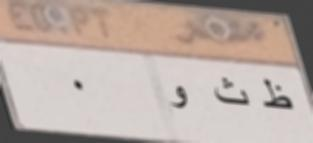0: (66, 74, 88, 100)
Thaa: (257, 73, 294, 116)
thaa: (212, 75, 251, 111)
waw: (167, 78, 192, 114)
